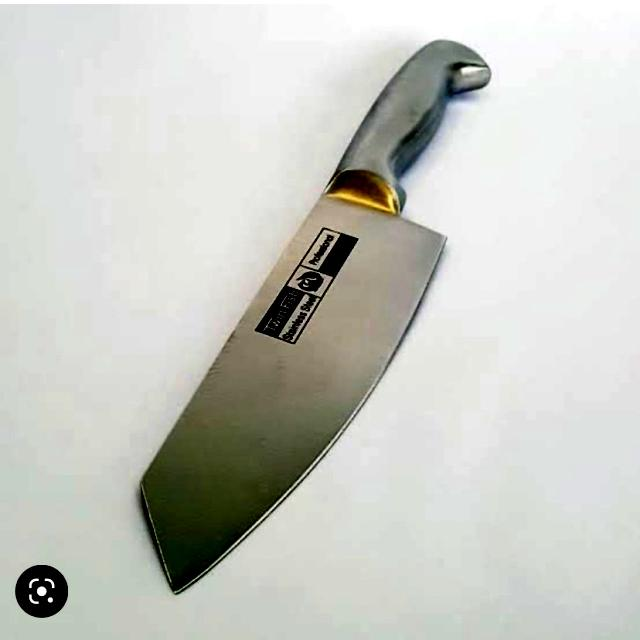knife: (74, 6, 567, 631)
